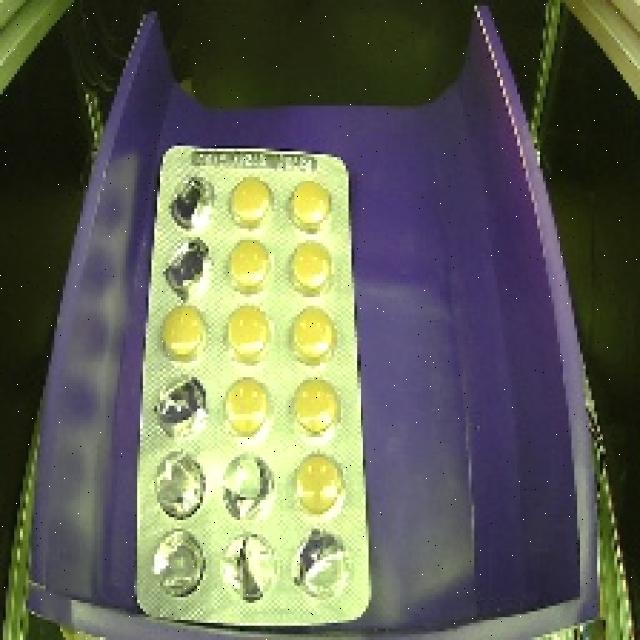med_plate: (123, 128, 384, 634)
